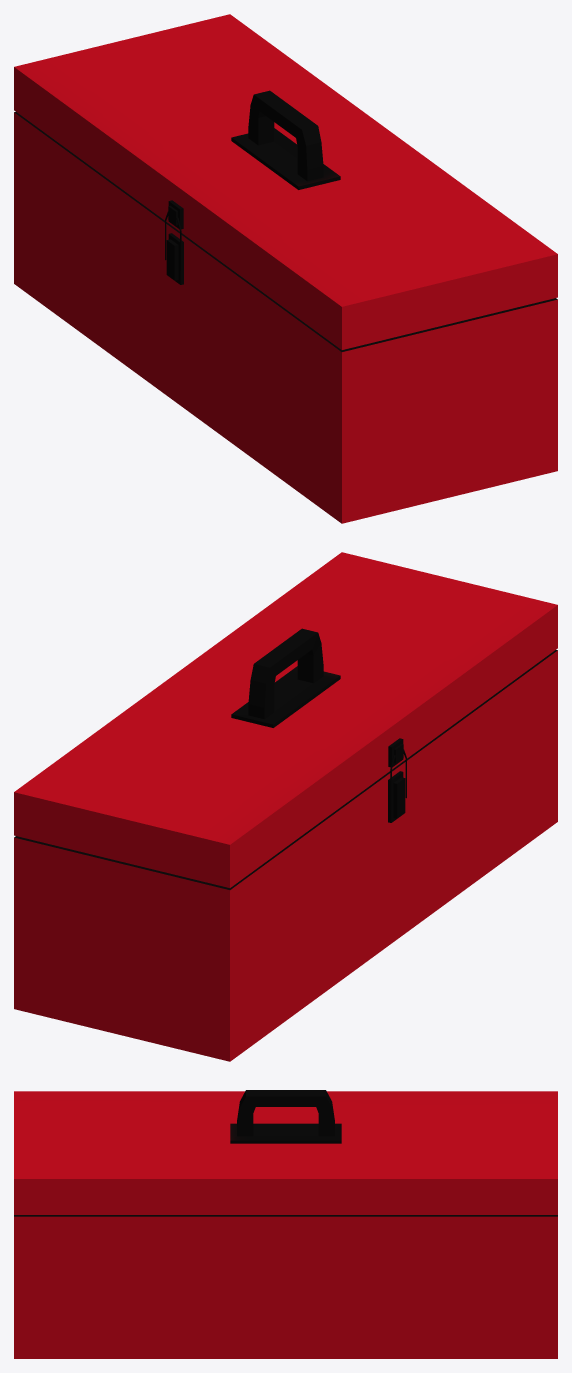
File: ToolBox.fbx
3 renders of one model, top to bottom at view 1: azimuth 30°, elevation 25°; view 2: azimuth 150°, elevation 25°; view 3: azimuth 270°, elevation 25°, orthographic. The views are drawn at different scales.
Parts seen in each view (by area): view 1: Cube; view 2: Cube; view 3: Cube.
Part boxes in pixels (x1=…): Cube: x1=14, y1=14, x2=557, y2=523; Cube: x1=14, y1=552, x2=557, y2=1061; Cube: x1=14, y1=1090, x2=557, y2=1358.
Bounding box in the file's own units: 219 × 250 × 557.
